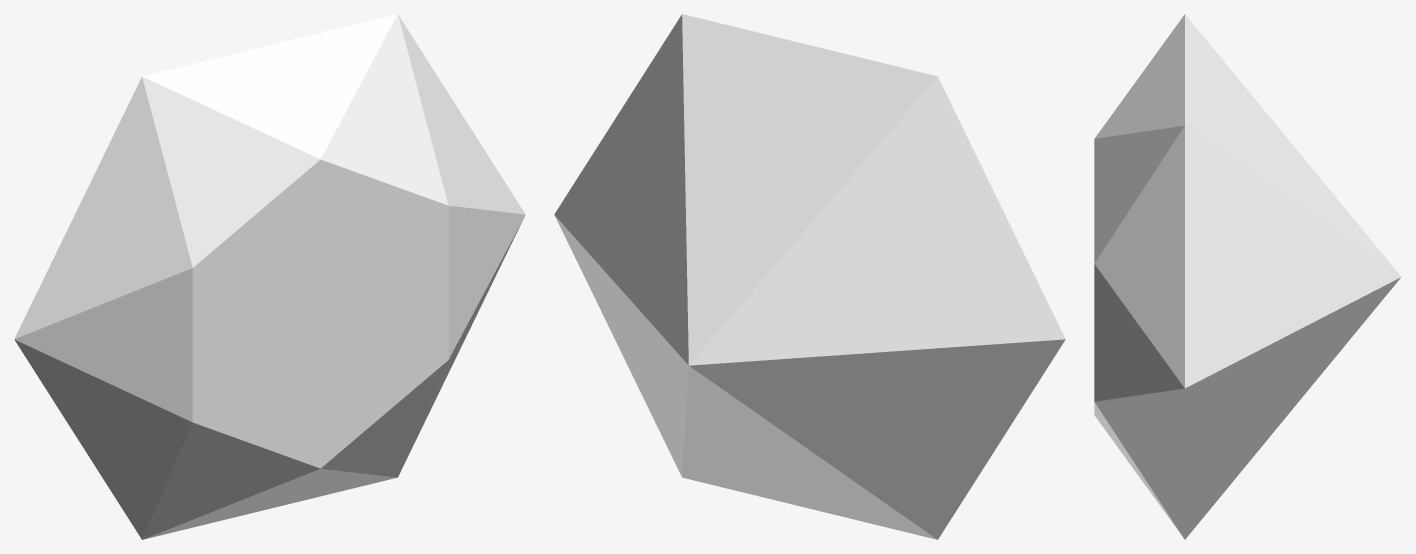
Rendered from gem.obj.
3 renders of one model, left to right at view 1: azimuth 30°, elevation 25°; view 2: azimuth 150°, elevation 25°; view 3: azimuth 270°, elevation 25°, orthographic. The views are drawn at different scales.
Visible parts, largest first — view 1: Cylinder001; view 2: Cylinder001; view 3: Cylinder001.
Part boxes in pixels (box(x1,y1,x2,y2)): Cylinder001: box(14, 14, 525, 539); Cylinder001: box(554, 14, 1065, 539); Cylinder001: box(1094, 14, 1401, 539).
Bounding box in the file's own units: 0.4 × 0.3464 × 0.2327.
